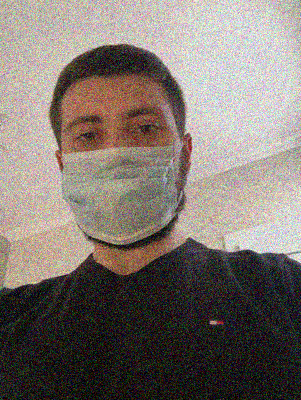with_mask: (60, 100, 186, 253)
